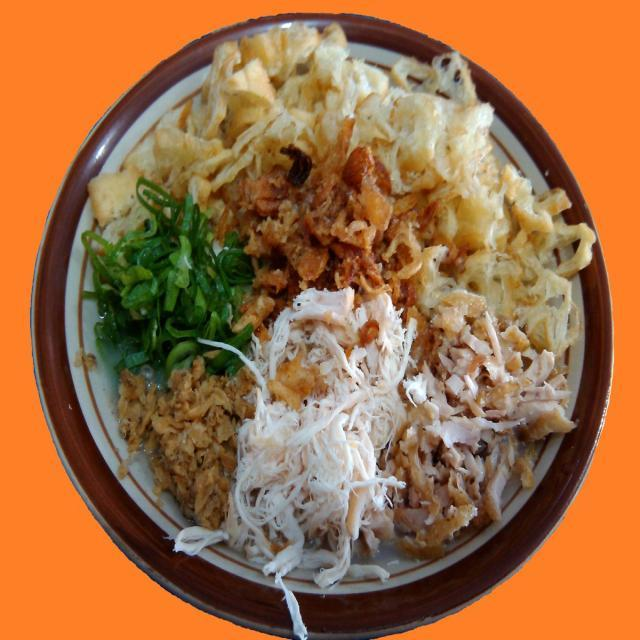bubur ayam: (86, 22, 600, 587)
mangkuk: (27, 12, 618, 640)
